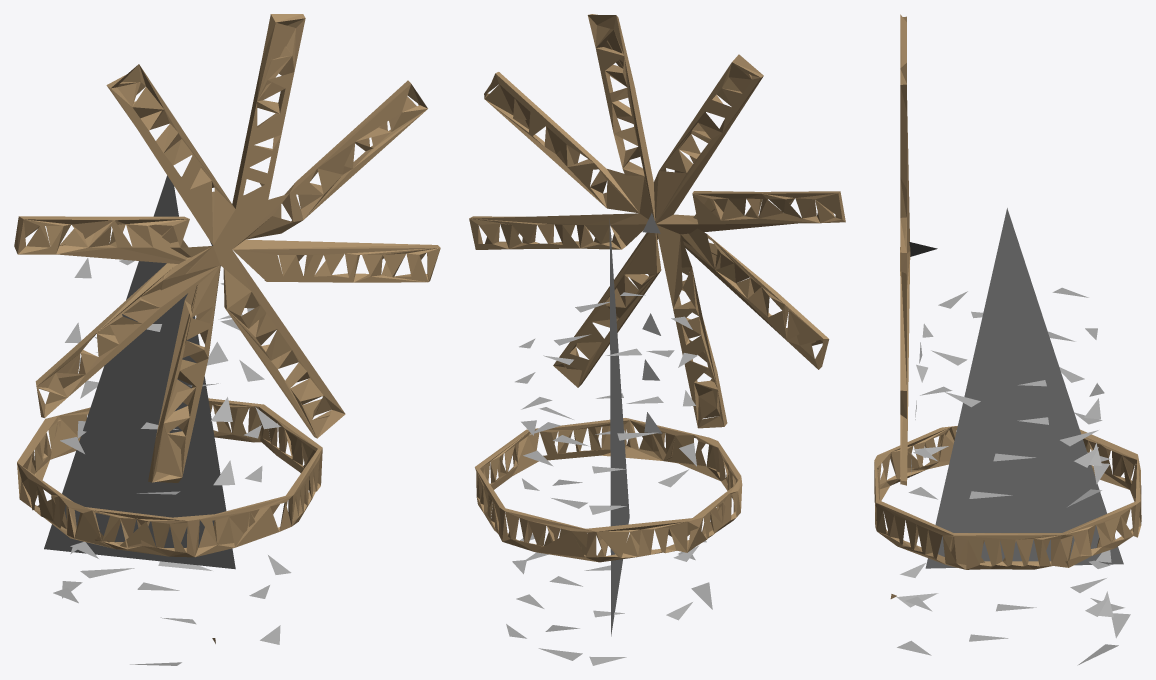
File: TowerWindmill.lod3.glb
3 views of the same model, side by side, from view 1: azimuth 30°, elevation 25°; view 2: azimuth 150°, elevation 25°; view 3: azimuth 270°, elevation 25° (orthographic). The views are drawn at different scales.
Visible parts, largest first — view 1: TowerWindmill_Blades, TowerWindmill; view 2: TowerWindmill_Blades, TowerWindmill; view 3: TowerWindmill, TowerWindmill_Blades.
Boxes of the visible parts, x1,y1,x2,y2 form: TowerWindmill_Blades: (14,14,440,482); TowerWindmill: (17,175,322,665); TowerWindmill_Blades: (469,14,845,428); TowerWindmill: (475,213,742,665); TowerWindmill: (874,208,1141,665); TowerWindmill_Blades: (900,14,910,485).
Bounding box in the file's own units: 7.9 × 11.26 × 4.63.
